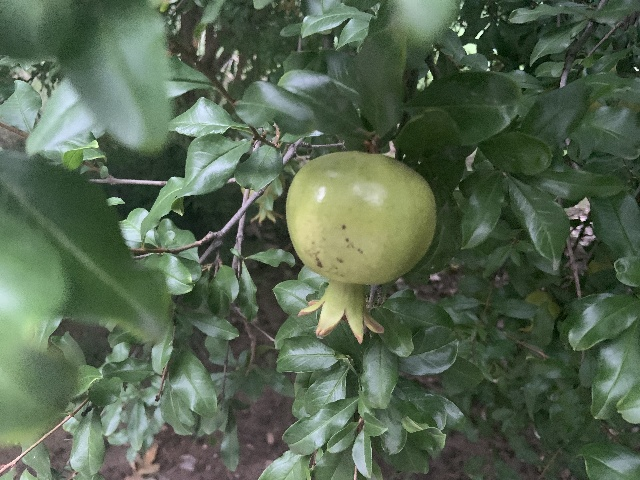mid-growth: (285, 149, 437, 343), (241, 171, 285, 226)
